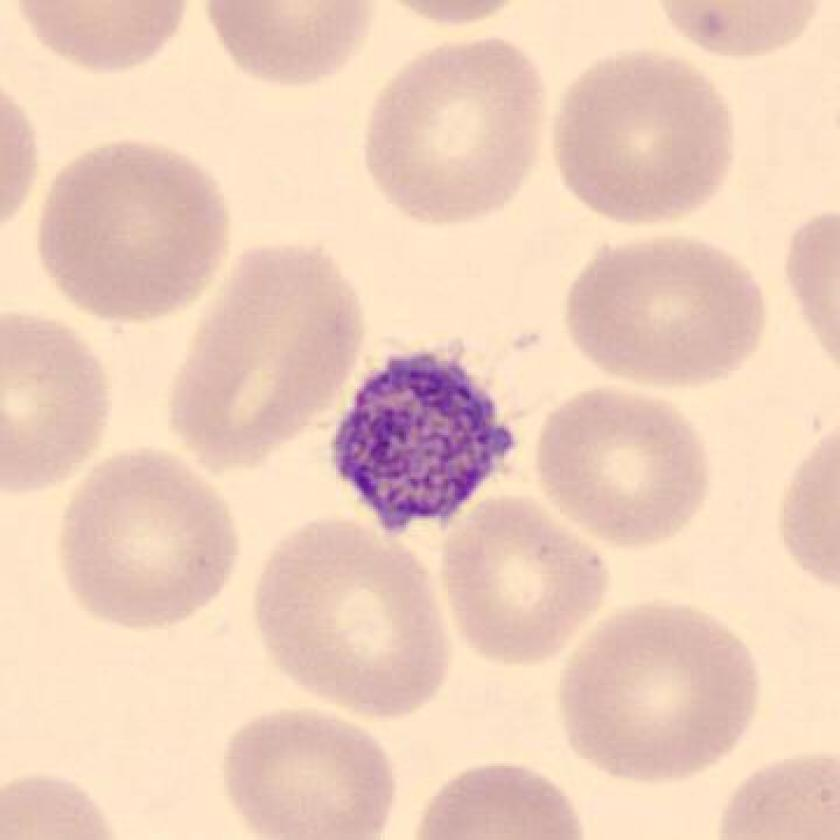platelets: (318, 339, 531, 547)
